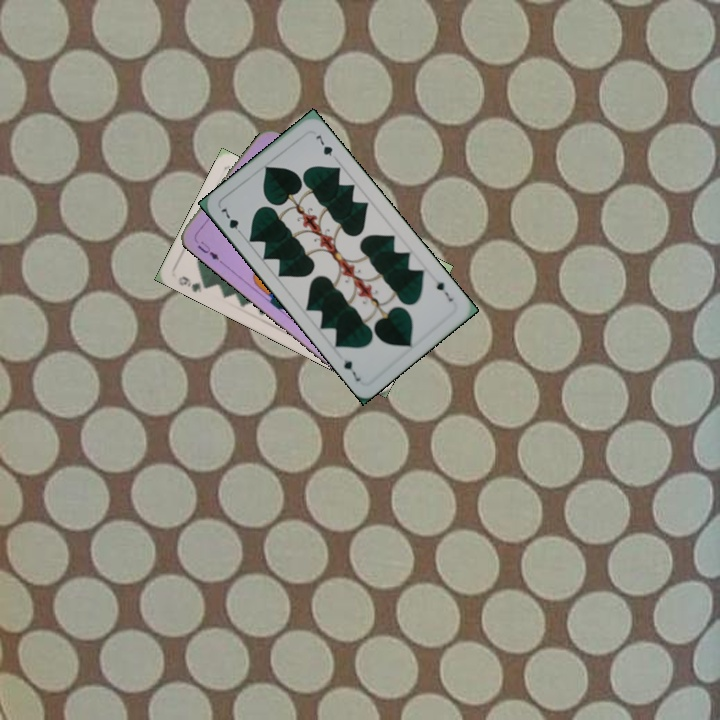EU: (193, 237, 222, 263)
G7: (217, 204, 246, 239), (430, 273, 456, 304)
G9: (174, 272, 213, 295)
